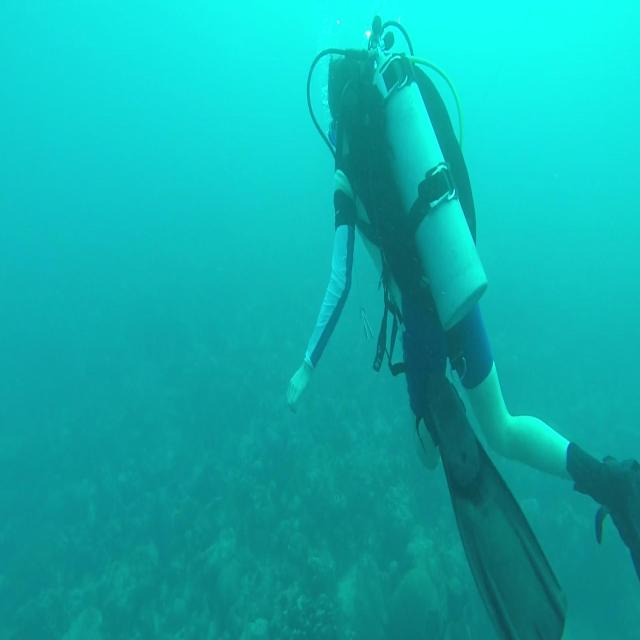human: (286, 15, 638, 638)
